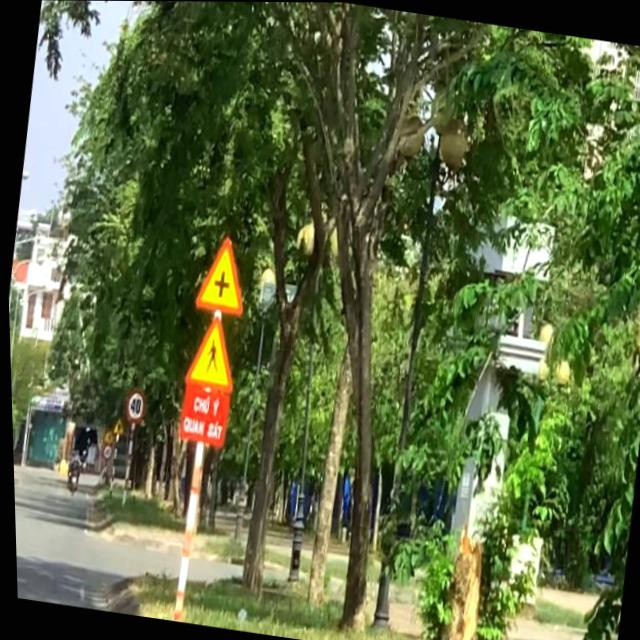Nguoi di bo cat ngang: (179, 308, 242, 398)
Toc do toi da cho phep: (119, 386, 147, 425)
